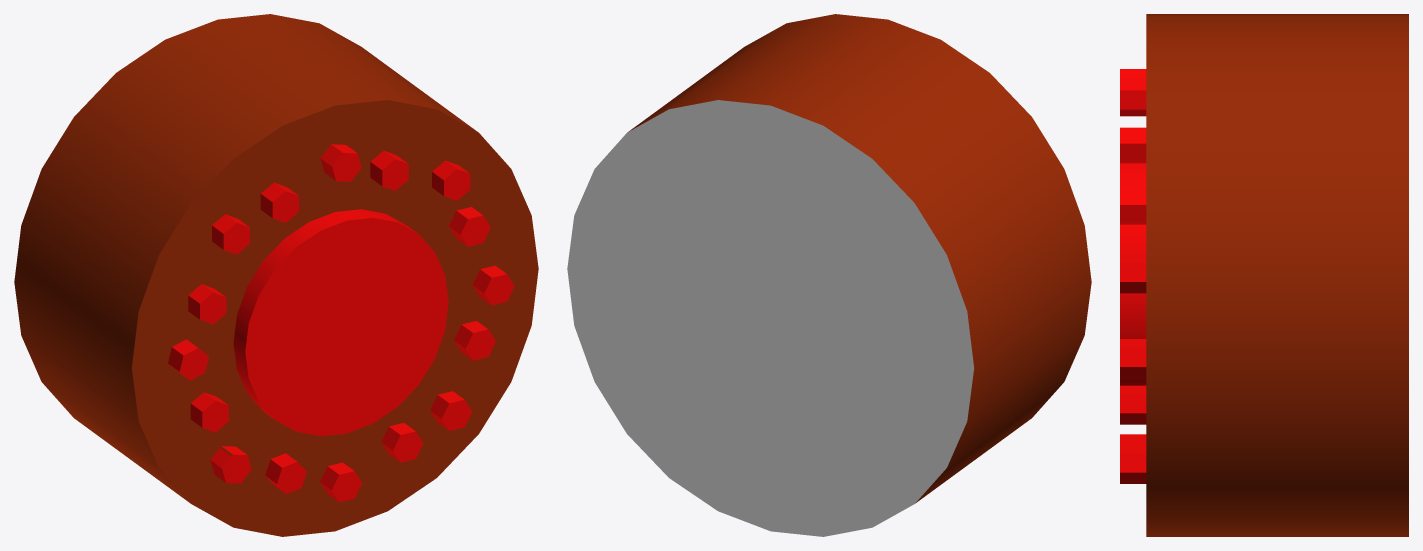
The model's file is sun.fbx.
The picture shows the model from 3 angles, left to right: view 1: azimuth 30°, elevation 25°; view 2: azimuth 150°, elevation 25°; view 3: azimuth 270°, elevation 25°; orthographic projection. The views are drawn at different scales.
Parts seen in each view (by area): view 1: Model; view 2: Model; view 3: Model.
Part boxes in pixels (<box>): Model: <box>14,14,538,536</box>; Model: <box>567,14,1091,536</box>; Model: <box>1120,14,1408,536</box>.
Size of the model in its own units: 4 by 4 by 2.2.
